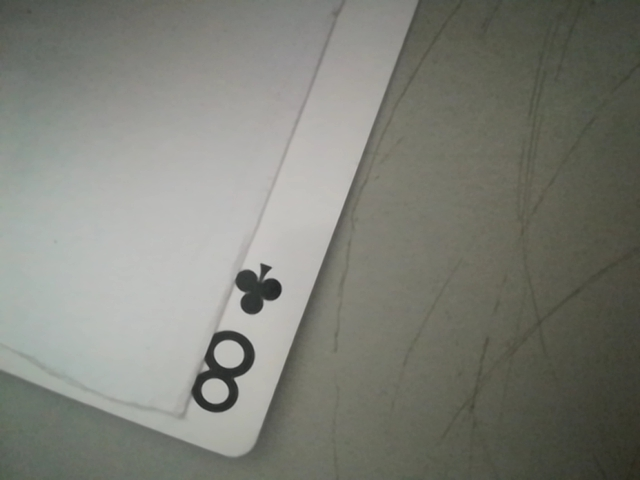mh 8: (176, 259, 292, 430)
